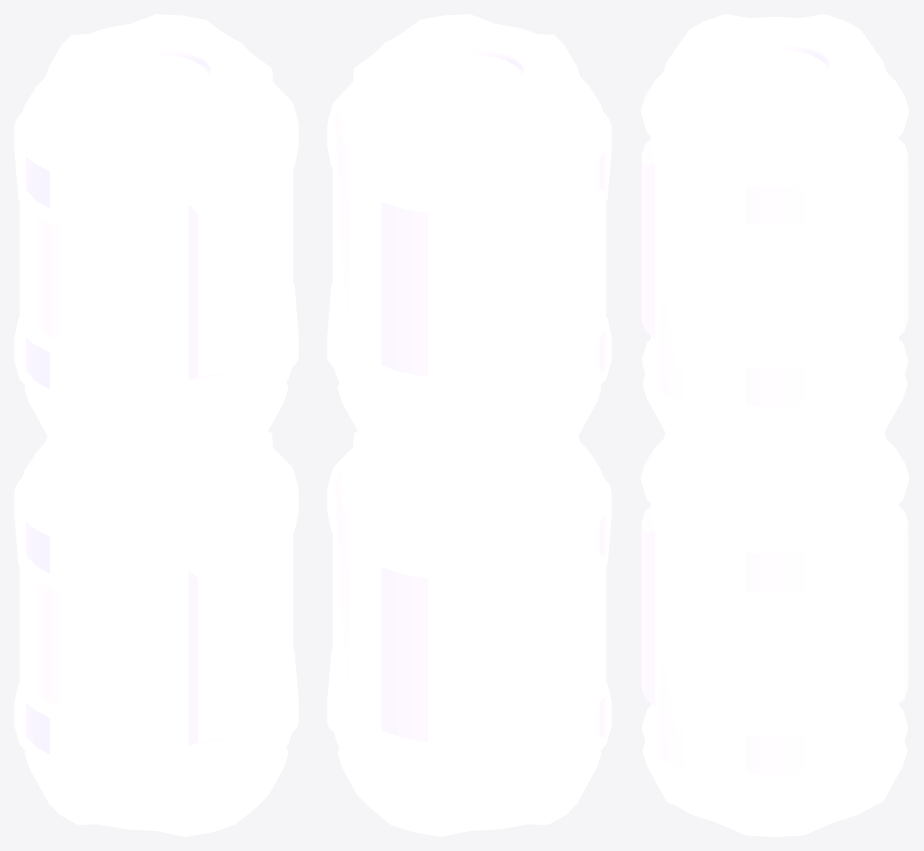
File: Warehouse_Assets_Barrel_Stack.glb
3 views of the same model, side by side, from view 1: azimuth 30°, elevation 25°; view 2: azimuth 150°, elevation 25°; view 3: azimuth 270°, elevation 25° (orthographic).
Parts seen in each view (by area): view 1: Barrel_Stack; view 2: Barrel_Stack; view 3: Barrel_Stack.
Part boxes in pixels (left/top/right/bottom): Barrel_Stack: left=14, top=14, right=298, bottom=836; Barrel_Stack: left=327, top=14, right=611, bottom=836; Barrel_Stack: left=640, top=14, right=909, bottom=836.
Bounding box in the file's own units: 1 × 2.84 × 0.9339.
